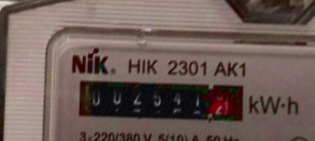0: (90, 86, 104, 108), (111, 85, 124, 107)
1: (192, 86, 204, 110)
2: (131, 85, 146, 108)
4: (172, 86, 184, 107)
5: (151, 86, 165, 109)
6: (214, 103, 225, 116)
screen: (66, 69, 257, 131)
